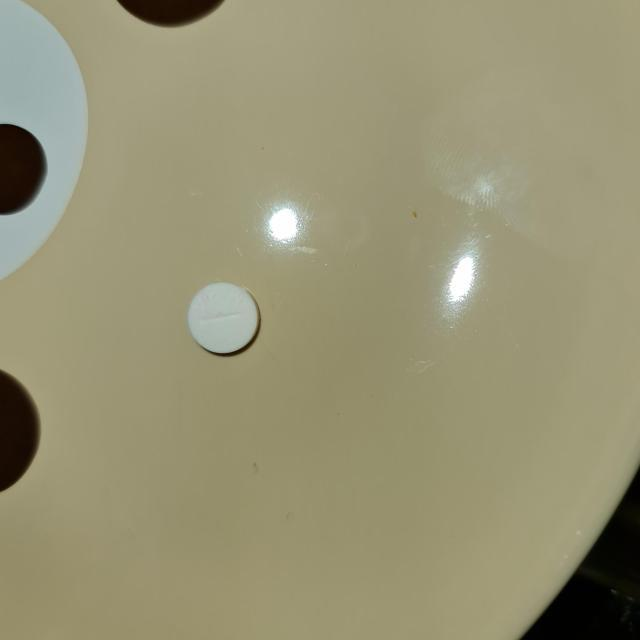pill: (186, 280, 258, 356)
